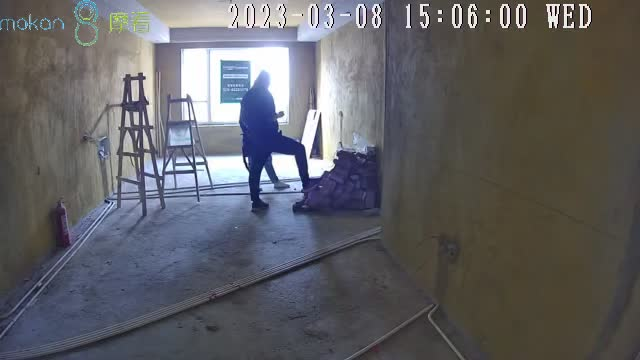people: (238, 70, 314, 213)
window: (182, 47, 287, 124)
